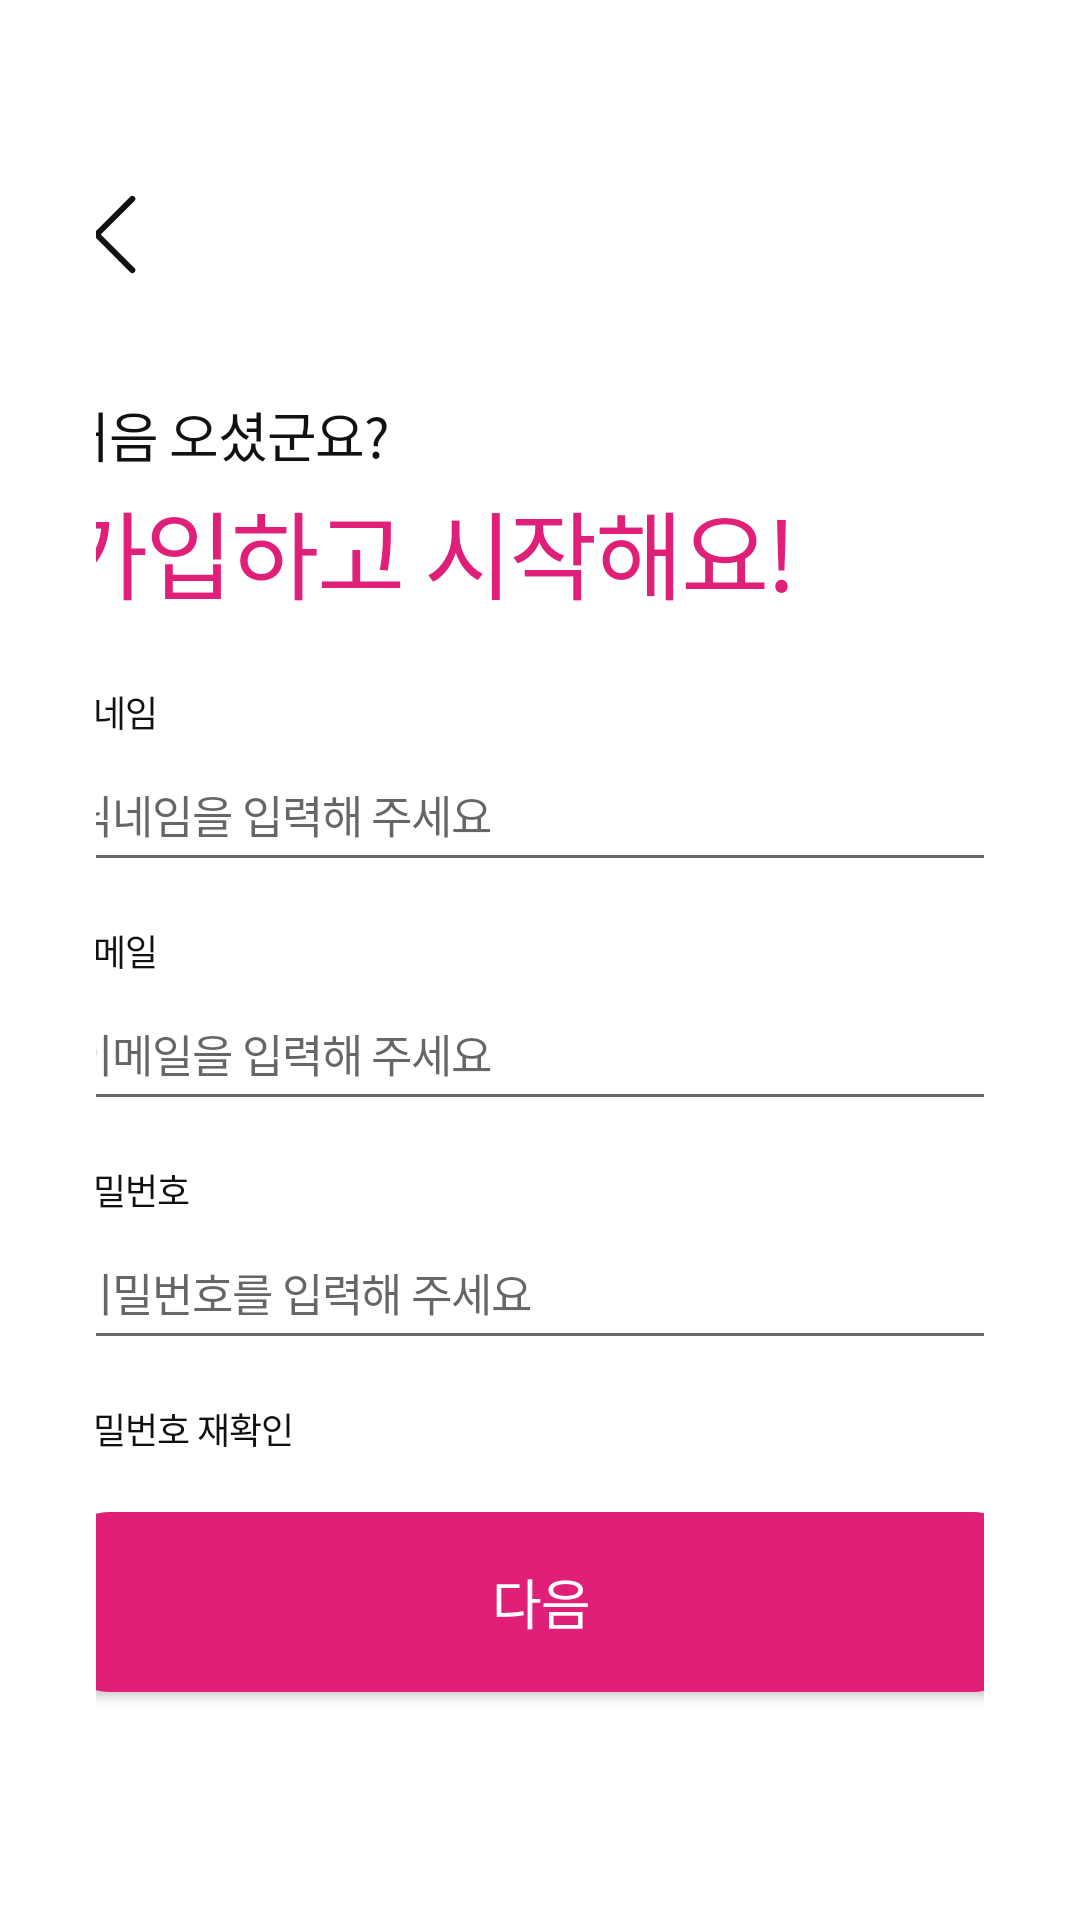

Where icons sit on this 1080px×1920px app screen, as {"x1": x1, "y1": y1, "x2": x2, "y2": y2}:
로그인 화면으로 돌아가기: {"x1": 96, "y1": 195, "x2": 136, "y2": 274}
